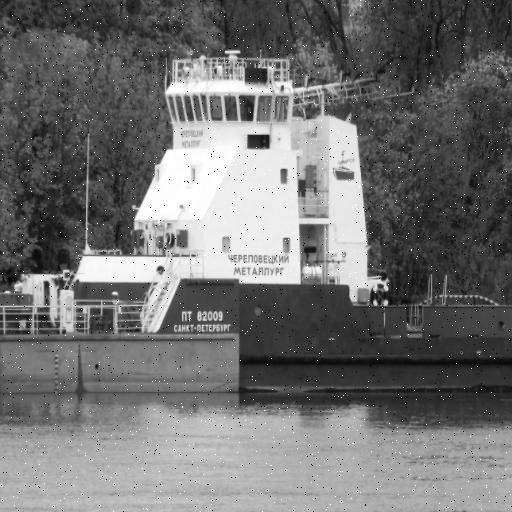tugboat: (47, 47, 512, 409)
